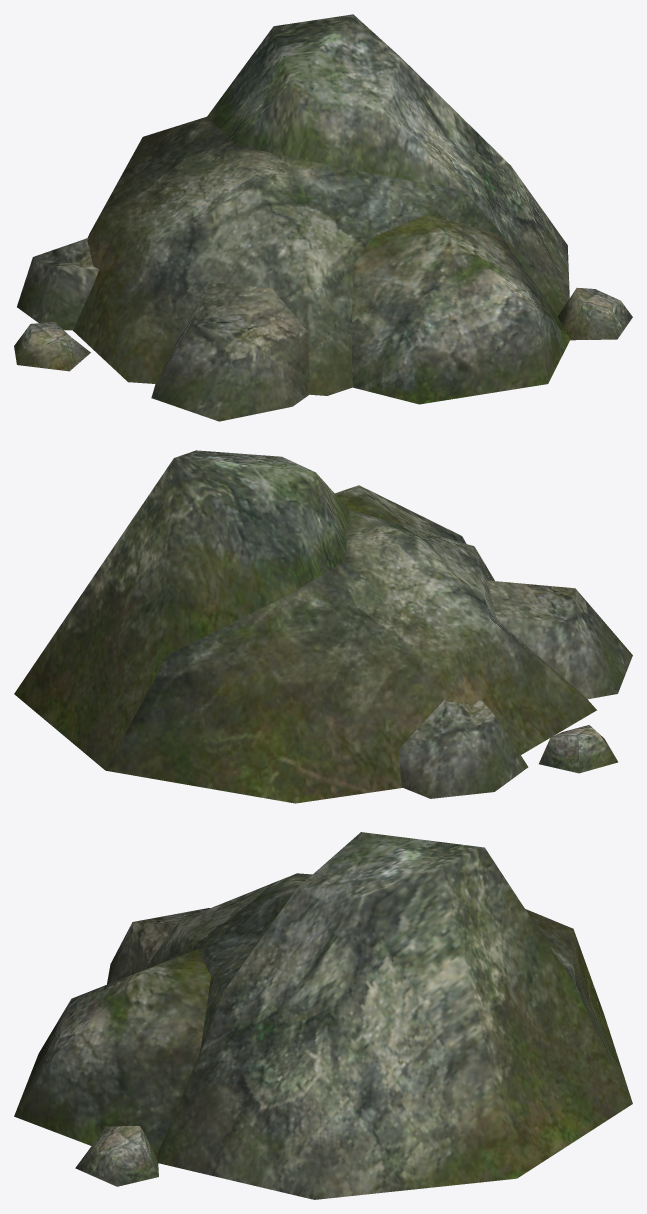
File: zc_jiangxia_shidui01.FBX
3 views of the same model, one above another, from view 1: azimuth 30°, elevation 25°; view 2: azimuth 150°, elevation 25°; view 3: azimuth 270°, elevation 25° (orthographic). The views are drawn at different scales.
Visible parts, largest first — view 1: zc_jiangxia_shidui01; view 2: zc_jiangxia_shidui01; view 3: zc_jiangxia_shidui01.
Boxes of the visible parts, <box> form: zc_jiangxia_shidui01: <box>14,14,632,421</box>; zc_jiangxia_shidui01: <box>14,450,632,803</box>; zc_jiangxia_shidui01: <box>14,832,632,1199</box>.
Size of the model in its own units: 3.69 by 1.5 by 3.37.
